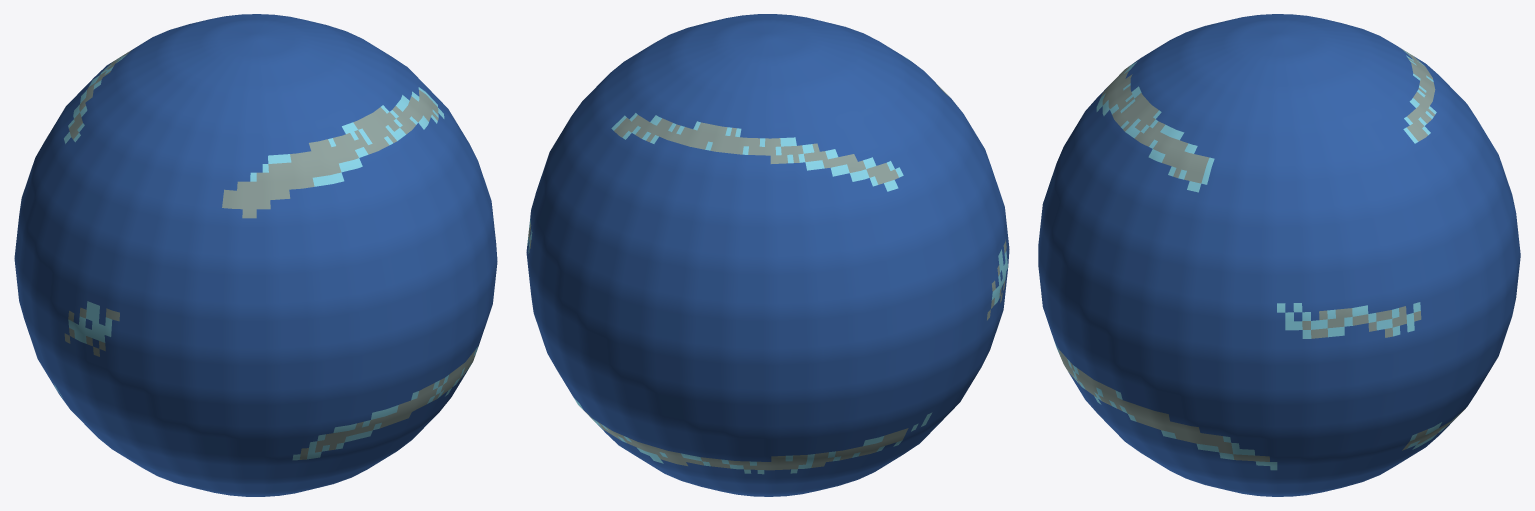
File: neptune.fbx
The picture shows the model from 3 angles, left to right: view 1: azimuth 30°, elevation 25°; view 2: azimuth 150°, elevation 25°; view 3: azimuth 270°, elevation 25°; orthographic projection.
Parts seen in each view (by area): view 1: Sphere; view 2: Sphere; view 3: Sphere.
Part boxes in pixels (x1,y1,x2,y2): Sphere: (14,14,497,496); Sphere: (526,14,1009,496); Sphere: (1038,14,1520,496).
Size of the model in its own units: 11146 by 11157 by 11134.
